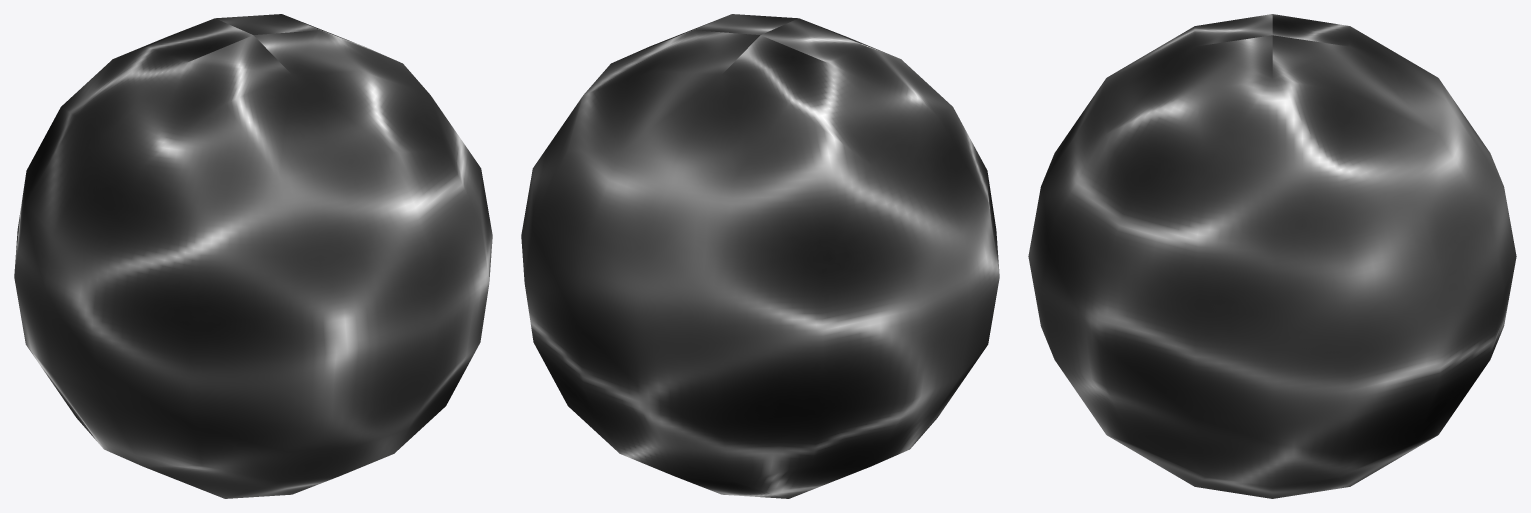
The model's file is eff_Sphericalcube01.fbx.
3 views of the same model, side by side, from view 1: azimuth 30°, elevation 25°; view 2: azimuth 150°, elevation 25°; view 3: azimuth 270°, elevation 25° (orthographic).
Parts seen in each view (by area): view 1: eff_Sphericalcube01_msh; view 2: eff_Sphericalcube01_msh; view 3: eff_Sphericalcube01_msh.
Part boxes in pixels (x1=…): eff_Sphericalcube01_msh: x1=14, y1=14, x2=492, y2=498; eff_Sphericalcube01_msh: x1=521, y1=14, x2=999, y2=498; eff_Sphericalcube01_msh: x1=1028, y1=14, x2=1516, y2=498.
Size of the model in its own units: 9 by 9 by 9.
